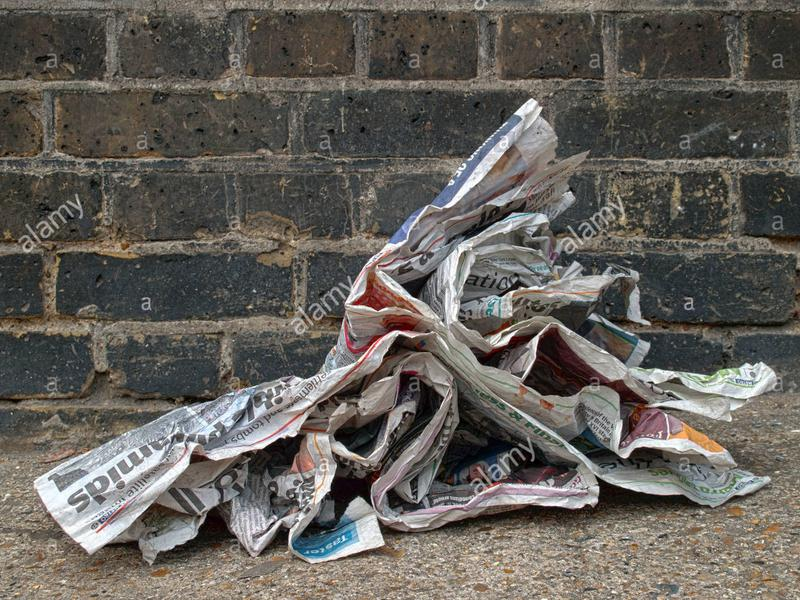paper: (25, 96, 784, 569)
